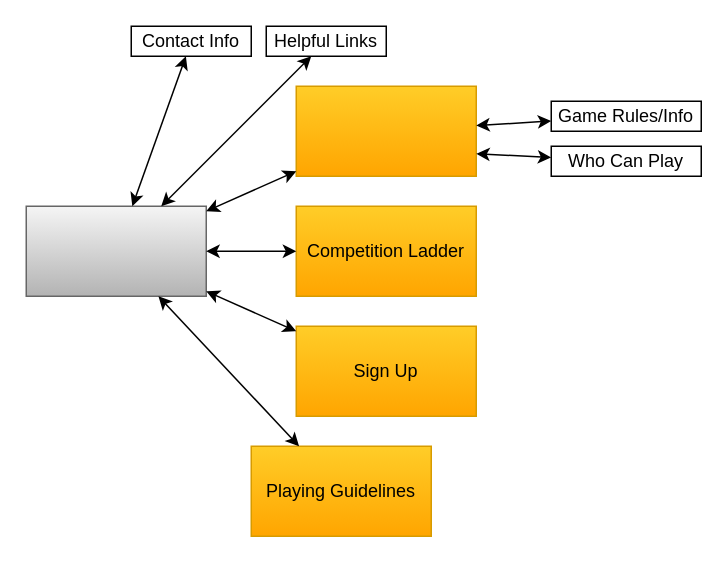
This 728x563 diagram has some shape labels left out. Here are the shapes that lost their labels. From the top down, the centre of each, then its label:
the point at 385,130: About Volleyball
the point at 115,250: Home Page
